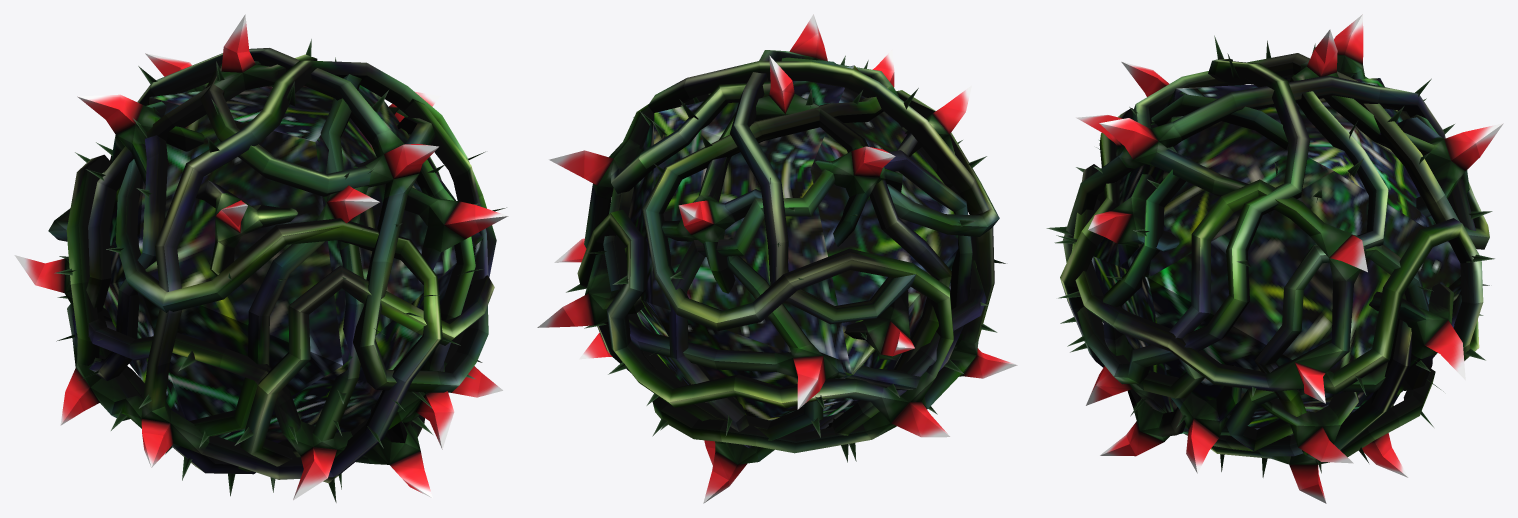
The model's file is Trample Weed.fbx.
The picture shows the model from 3 angles, left to right: view 1: azimuth 30°, elevation 25°; view 2: azimuth 150°, elevation 25°; view 3: azimuth 270°, elevation 25°; orthographic projection. The views are drawn at different scales.
Visible parts, largest first — view 1: Body; view 2: Body; view 3: Body.
Part boxes in pixels (left/top/right/bottom): Body: left=14, top=14, right=508, bottom=502; Body: left=537, top=14, right=1017, bottom=503; Body: left=1046, top=14, right=1503, bottom=503.
Size of the model in its own units: 1311 by 1377 by 1273.
Materials: 1 (1 with a texture image).
